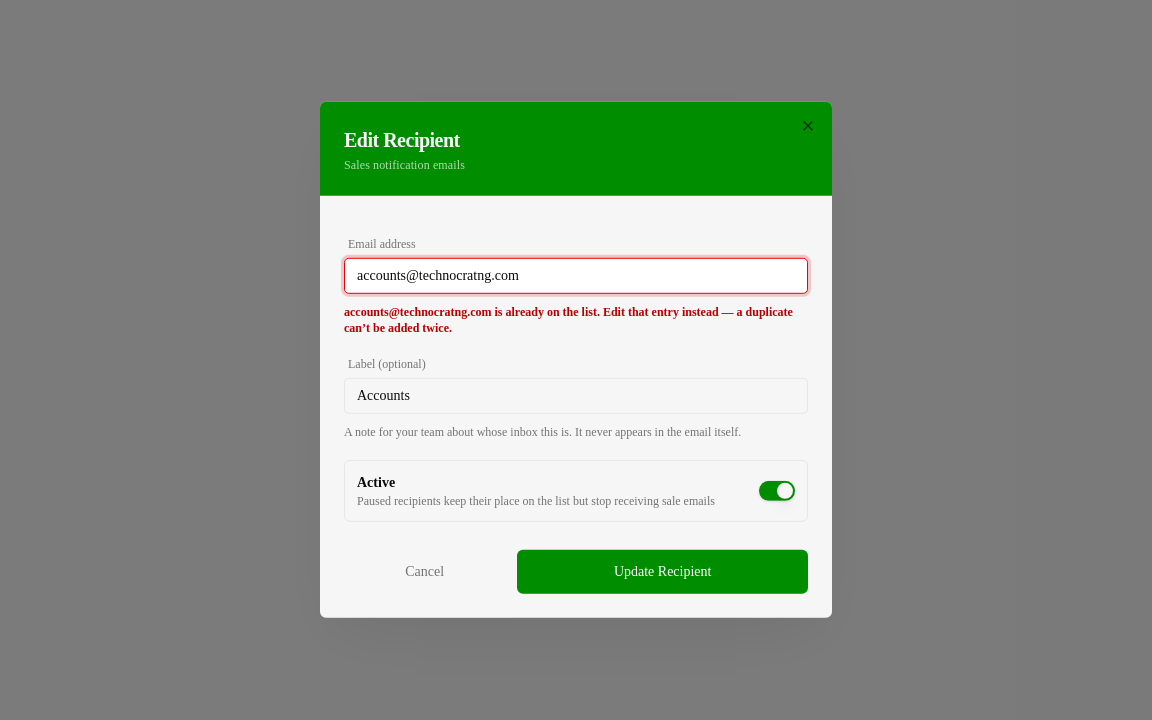
Test: RecipientFormDialog › drops the duplicate error once the address is edited to something else
Expected: the message is shown, [344,304,808,336]
Replace the text in the field labelled "Email address" with "warehouse@technocratng.com": [576, 276] box [344,258,808,294]
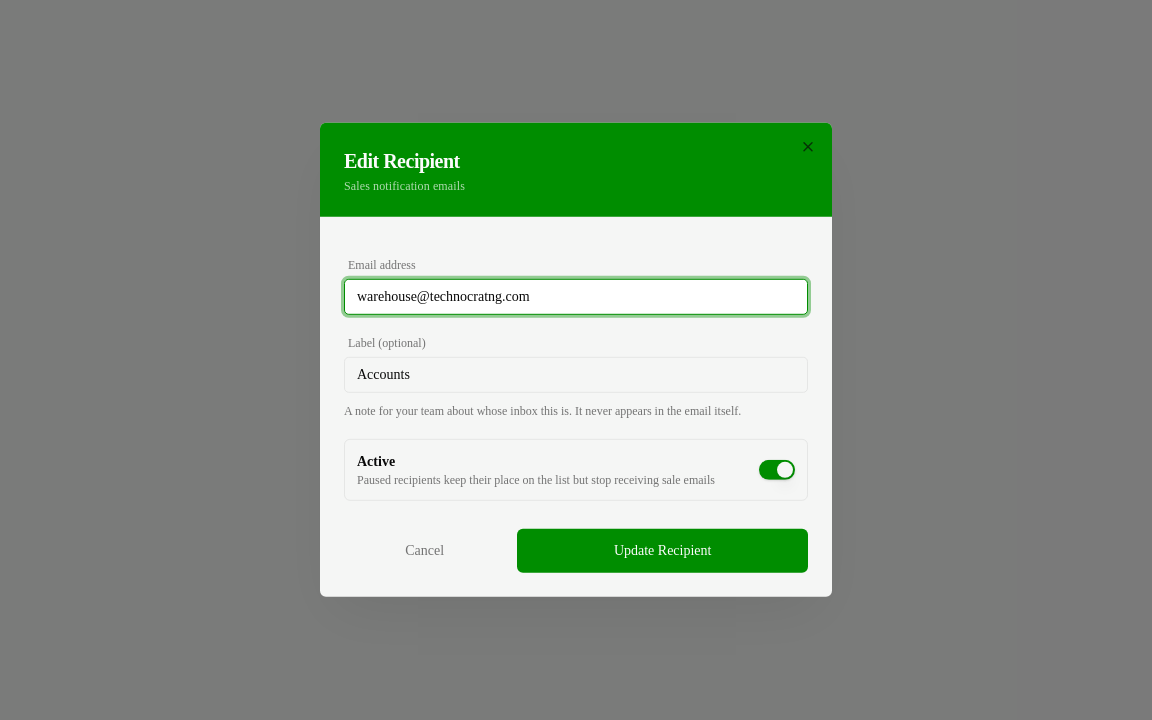
Expected: the message is gone
